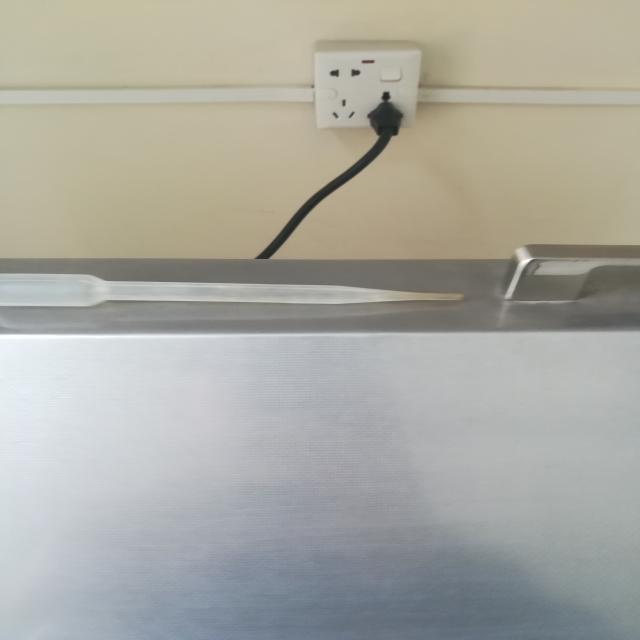Pipette: (0, 234, 478, 350)
